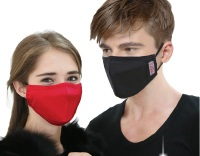face_mask: (102, 22, 161, 97), (26, 52, 82, 122)
